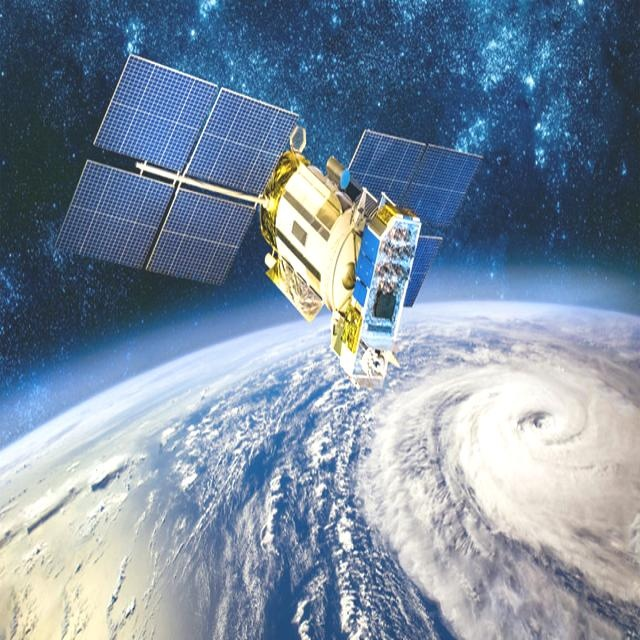satellite: (35, 41, 497, 407)
